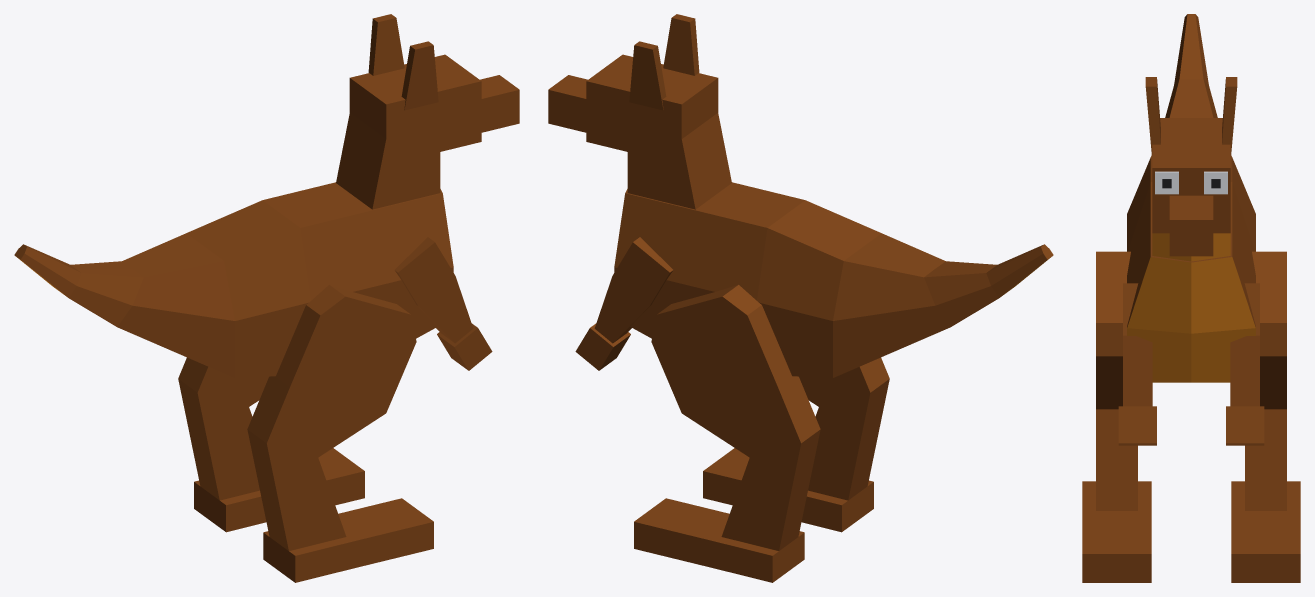
The model's file is Kangaroo.glb.
3 views of the same model, side by side, from view 1: azimuth 30°, elevation 25°; view 2: azimuth 150°, elevation 25°; view 3: azimuth 270°, elevation 25° (orthographic). The views are drawn at different scales.
Parts seen in each view (by area): view 1: Kangaroo; view 2: Kangaroo; view 3: Kangaroo.
Part boxes in pixels (<box>): Kangaroo: <box>14,14,519,582</box>; Kangaroo: <box>548,14,1053,582</box>; Kangaroo: <box>1082,14,1300,582</box>.
Bounding box in the file's own units: 5.94 × 5.48 × 2.12.
1 material, 1 textured.
